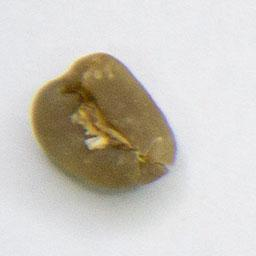premium: (27, 49, 180, 194)
